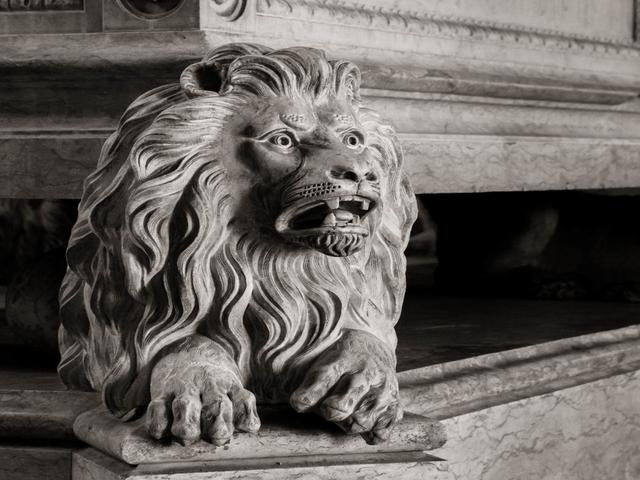lion: (52, 32, 453, 461)
